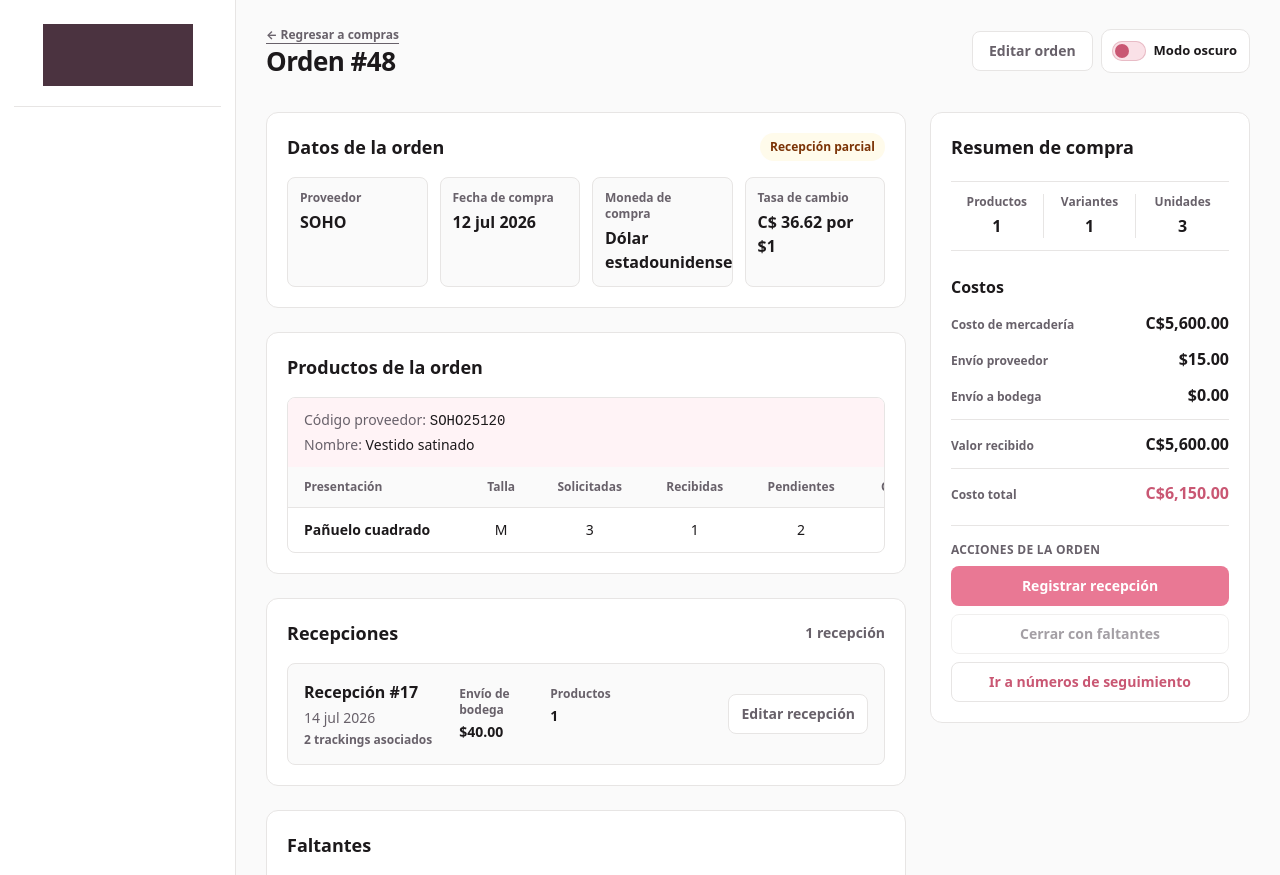
Test: PurchaseOrderDetailPage › identifica claramente el costo de cada tracking en el editor
The image size is (1280, 875).
Click the button with aria-label "Editar recepción #17" at (798, 714), box [728, 694, 868, 734]
(page scrolled)
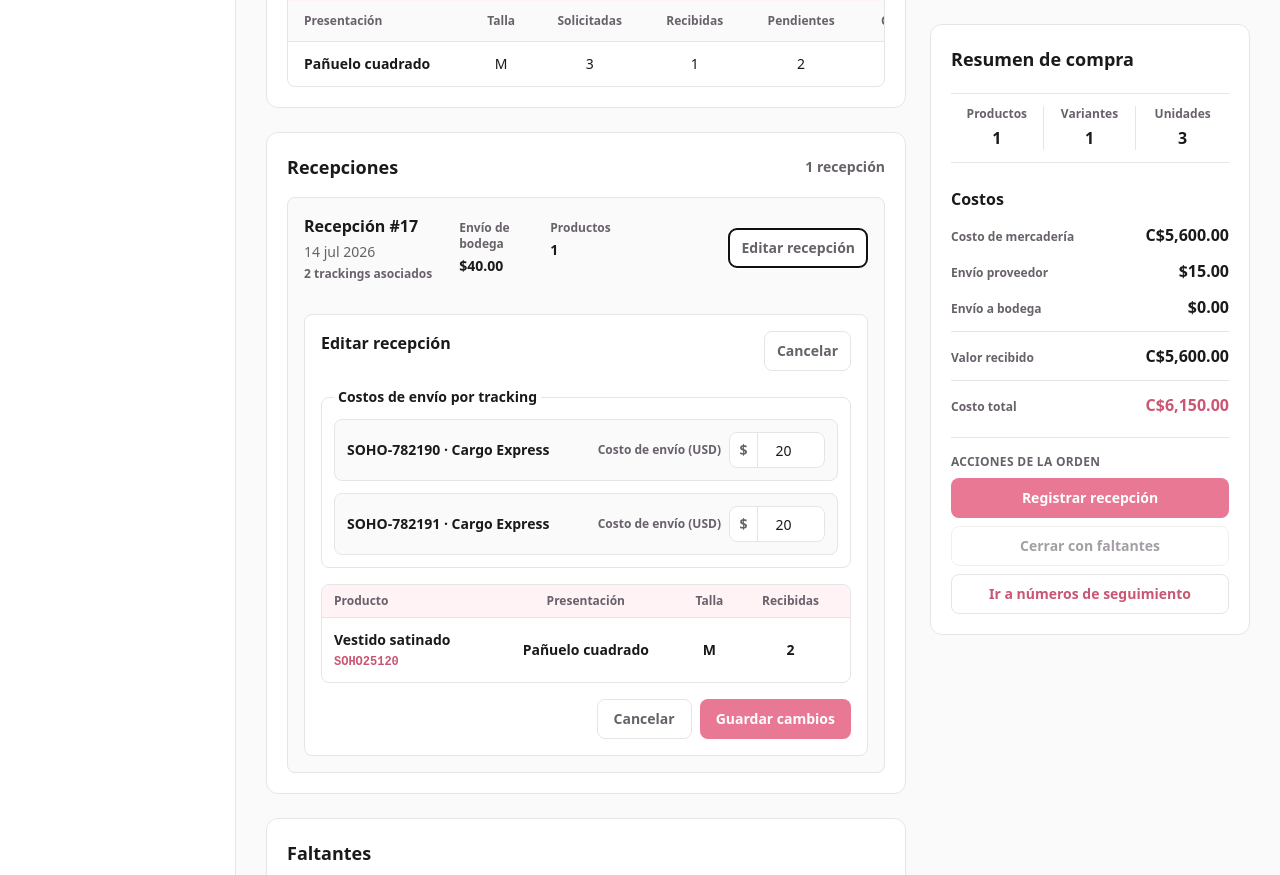
Now the text "Costos de envío por tracking" is shown, box [334, 387, 541, 407]
Now the number of number fields labelled "Costo de envío (USD)" is 2, box [758, 433, 824, 467]; [758, 507, 824, 541]
Now the text "SOHO-782190 · Cargo Express" is shown, box [347, 440, 549, 459]
